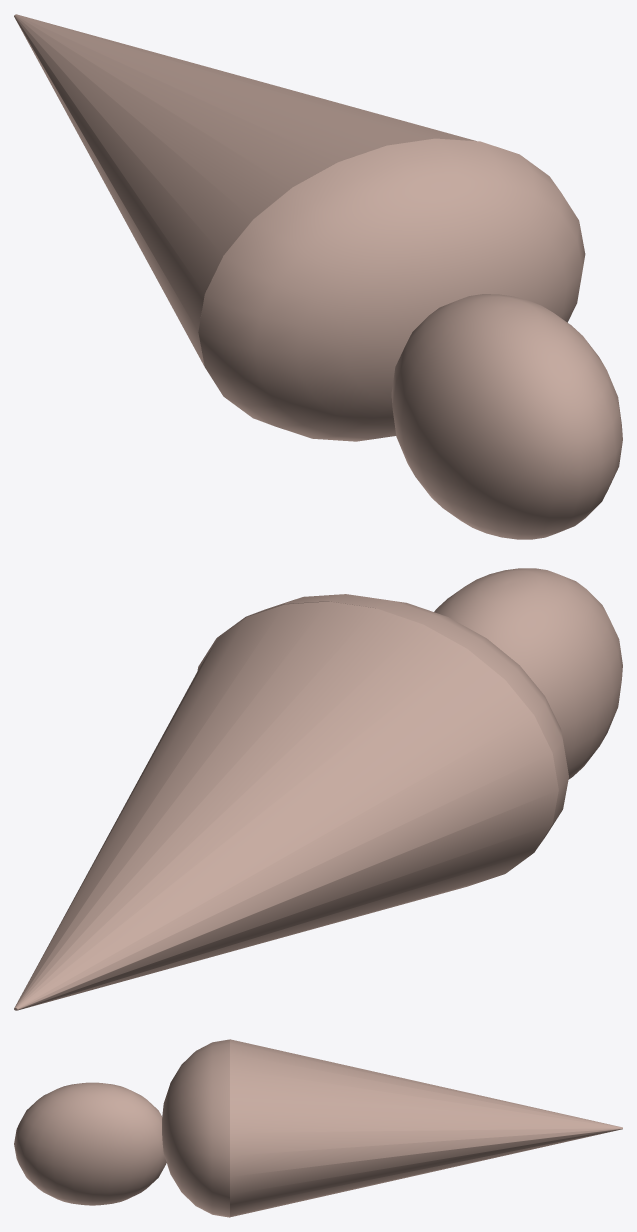
File: Human.gltf
3 renders of one model, top to bottom at view 1: azimuth 30°, elevation 25°; view 2: azimuth 150°, elevation 25°; view 3: azimuth 270°, elevation 25°, orthographic. The views are drawn at different scales.
Visible parts, largest first — view 1: mergedBlocks; view 2: mergedBlocks; view 3: mergedBlocks.
Part boxes in pixels (<box>): mergedBlocks: <box>14,14,622,539</box>; mergedBlocks: <box>14,568,622,1010</box>; mergedBlocks: <box>14,1039,622,1217</box>.
Bounding box in the file's own units: 0.5876 × 0.42 × 1.55.
